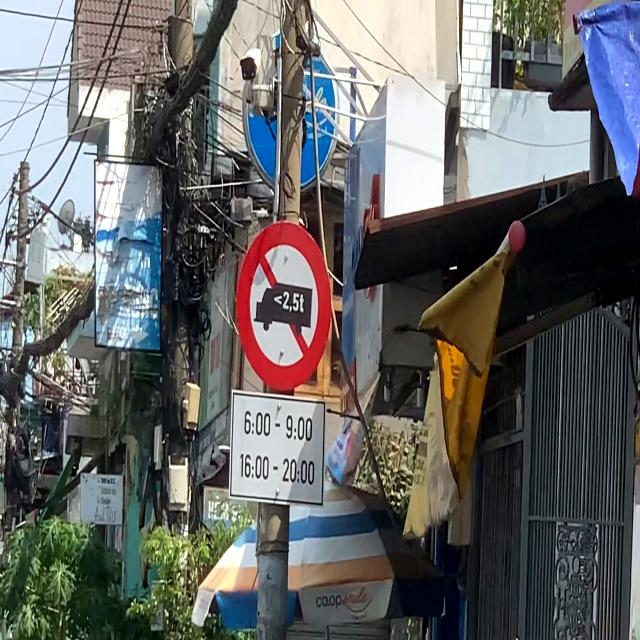P.106b: (232, 217, 334, 394)
